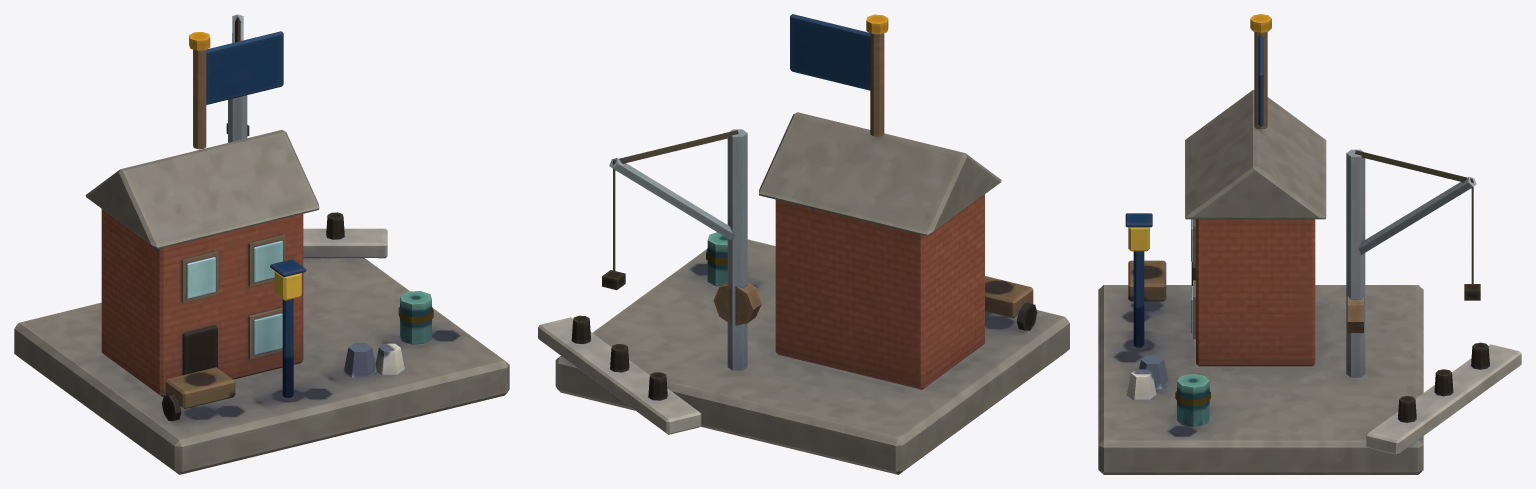
The model's file is harbor-10.glb.
3 renders of one model, left to right at view 1: azimuth 30°, elevation 25°; view 2: azimuth 150°, elevation 25°; view 3: azimuth 270°, elevation 25°, orthographic. The views are drawn at different scales.
Parts seen in each view (by area): view 1: harbor-10; view 2: harbor-10; view 3: harbor-10.
Part boxes in pixels (box(x1,y1,x2,y2)): harbor-10: box(14, 14, 509, 474); harbor-10: box(538, 14, 1069, 474); harbor-10: box(1098, 14, 1521, 474).
Size of the model in its own units: 1.51 by 1.42 by 1.56.
1 material, 1 textured.
